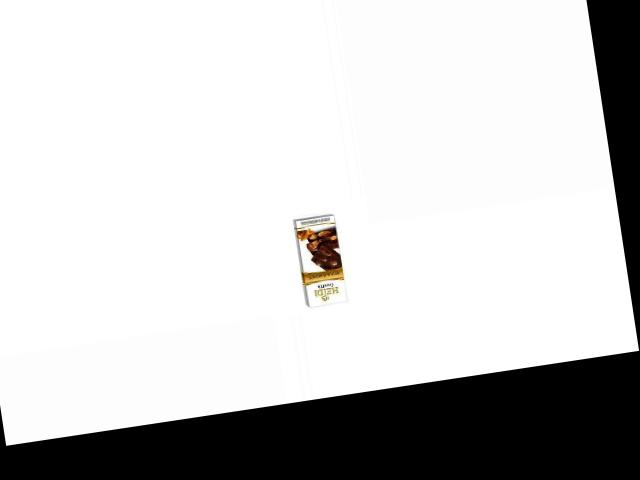chocolate: (286, 213, 357, 314)
